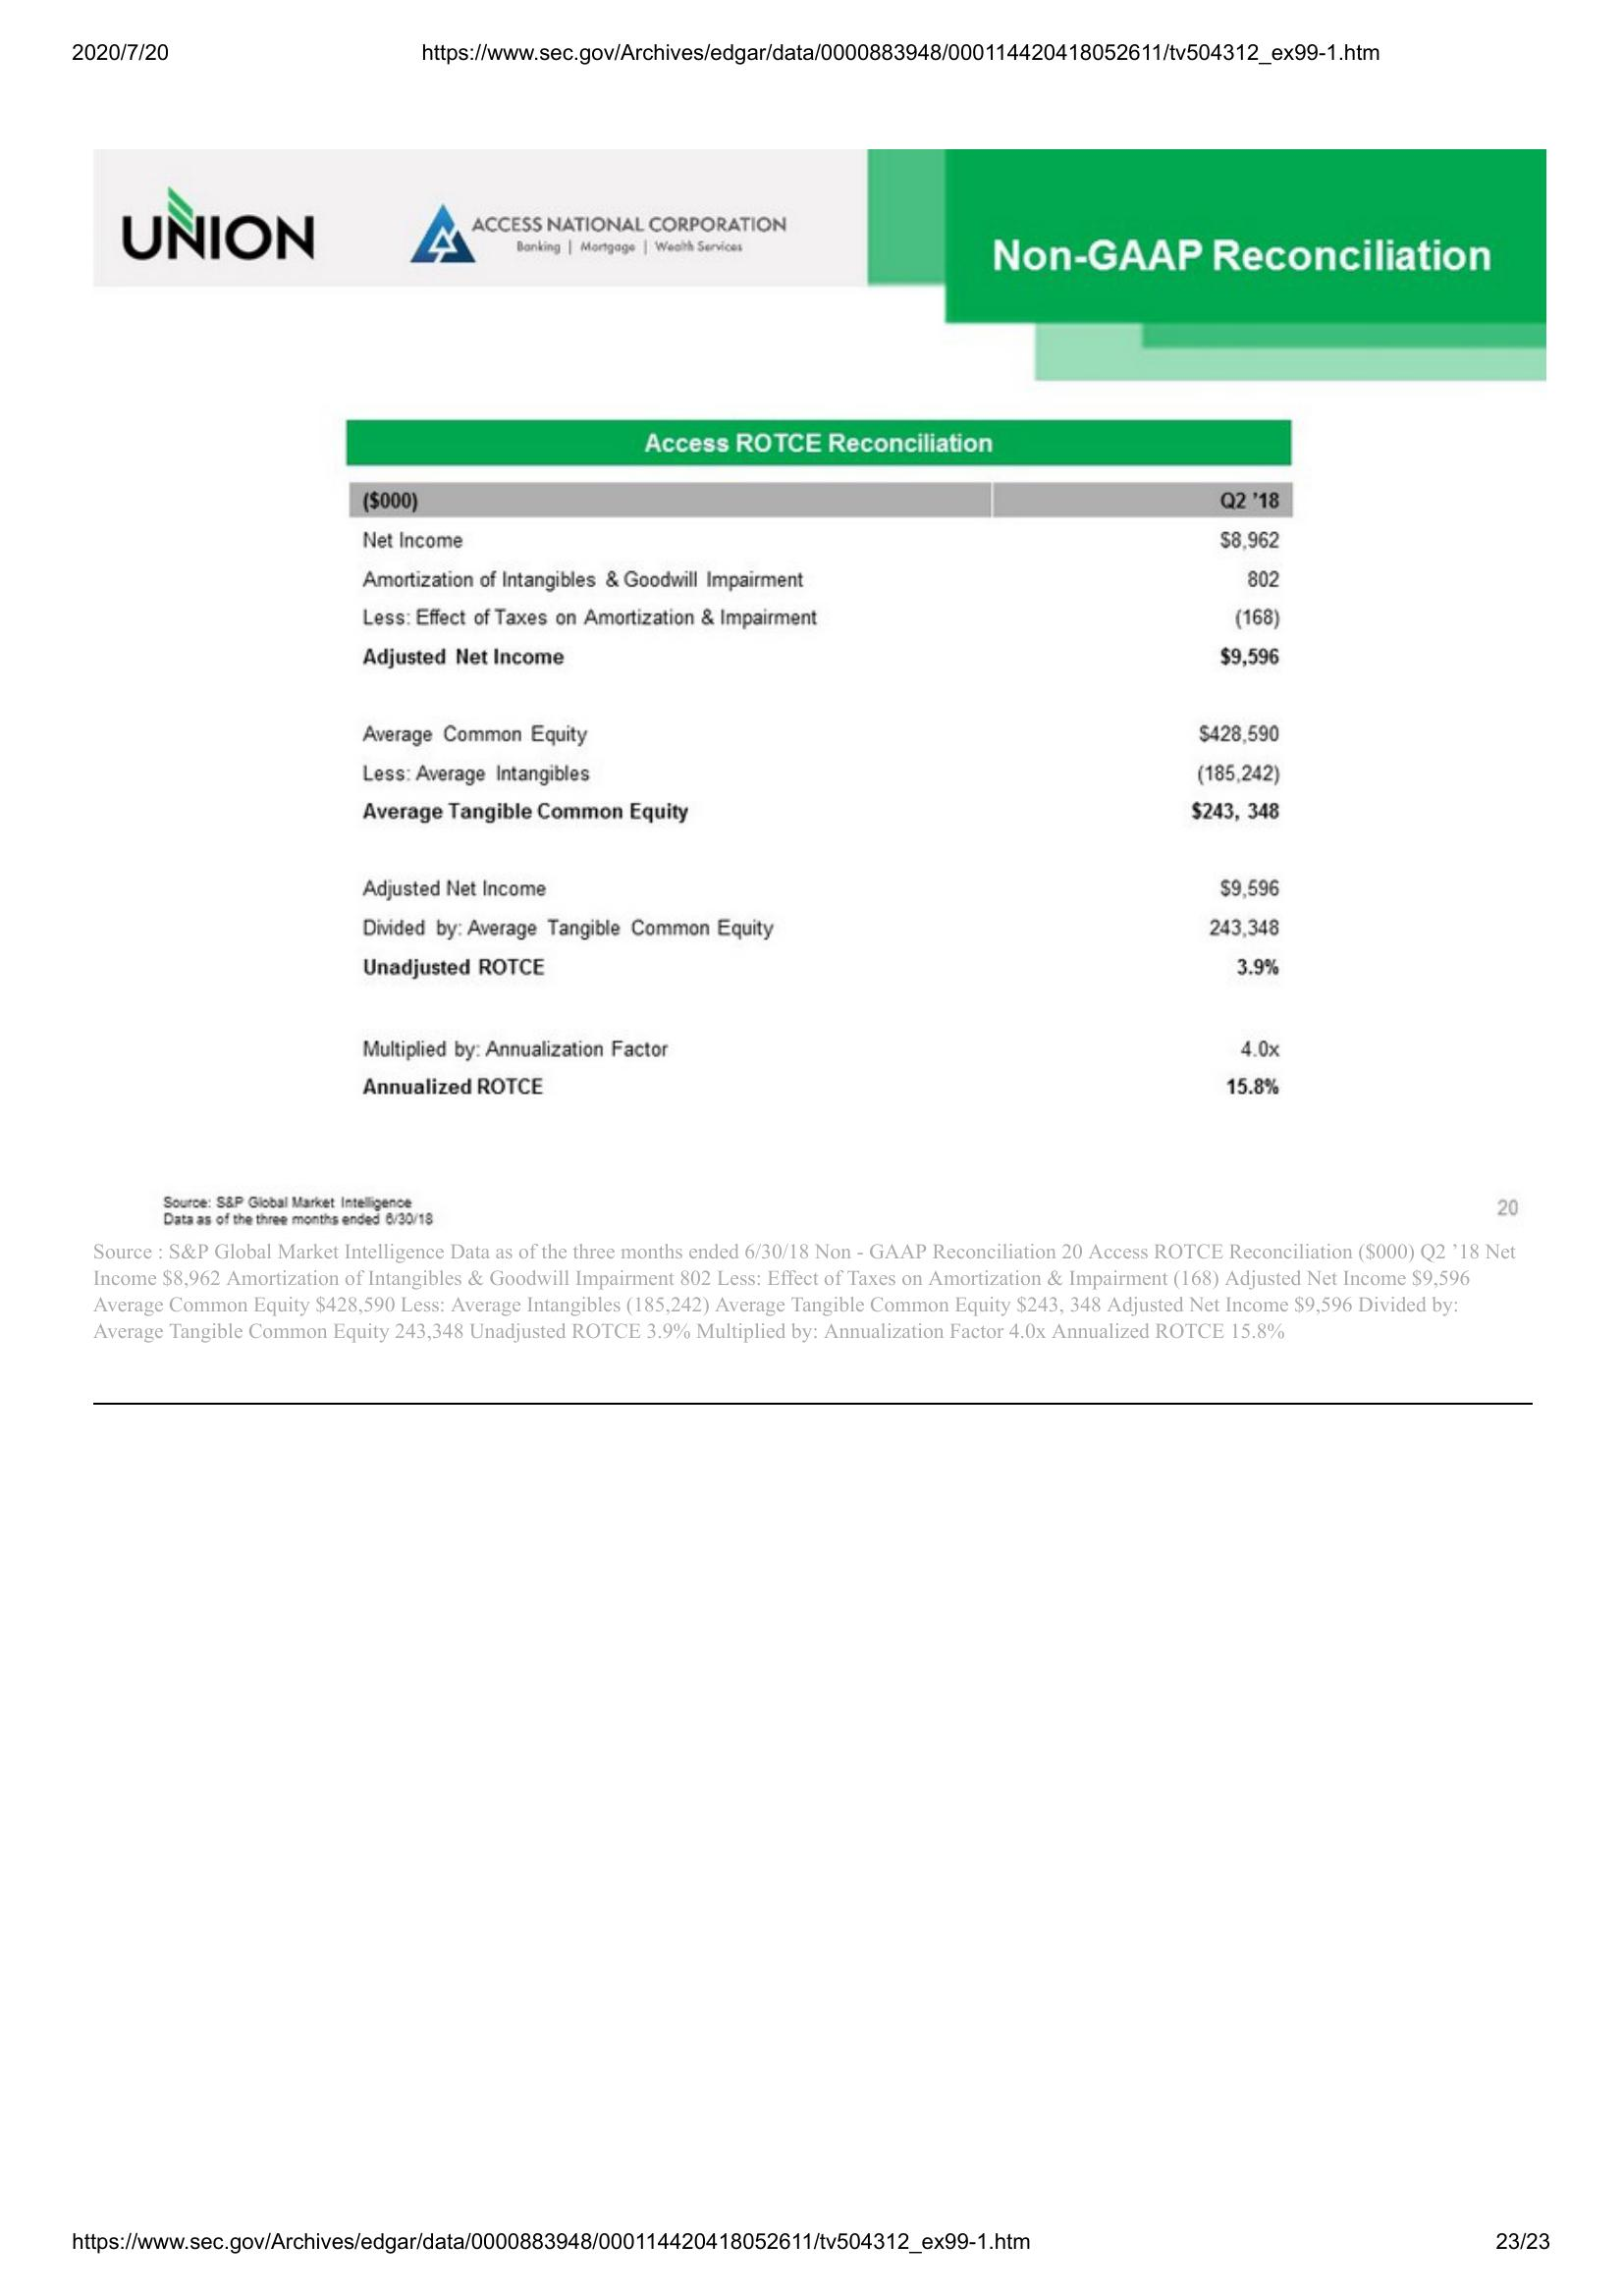table: (343, 411, 1295, 1108)
